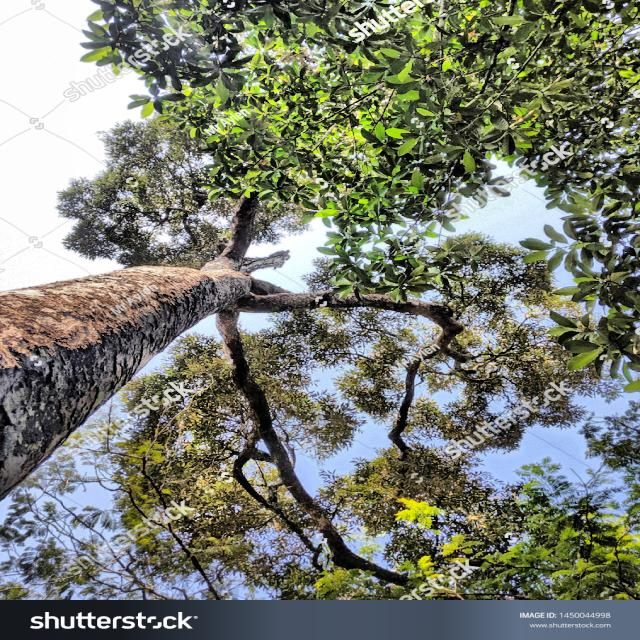arvore: (0, 233, 288, 516)
